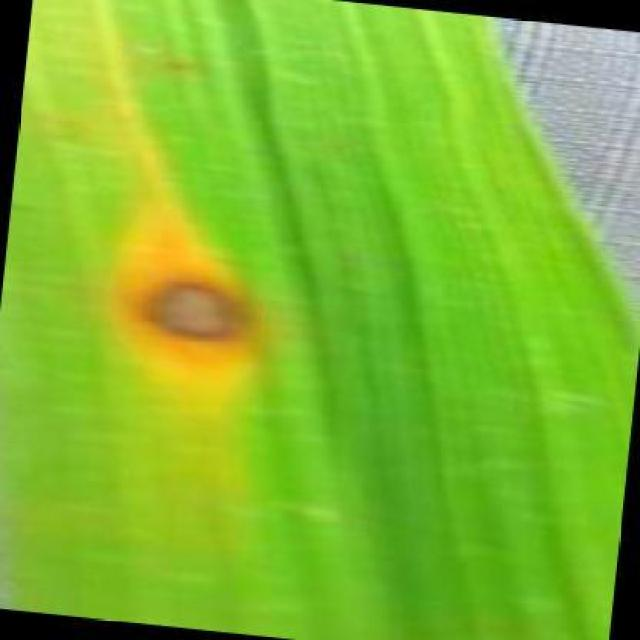Leaf_Blast: (88, 215, 306, 400), (148, 33, 221, 92), (43, 94, 100, 138), (11, 186, 54, 234)
